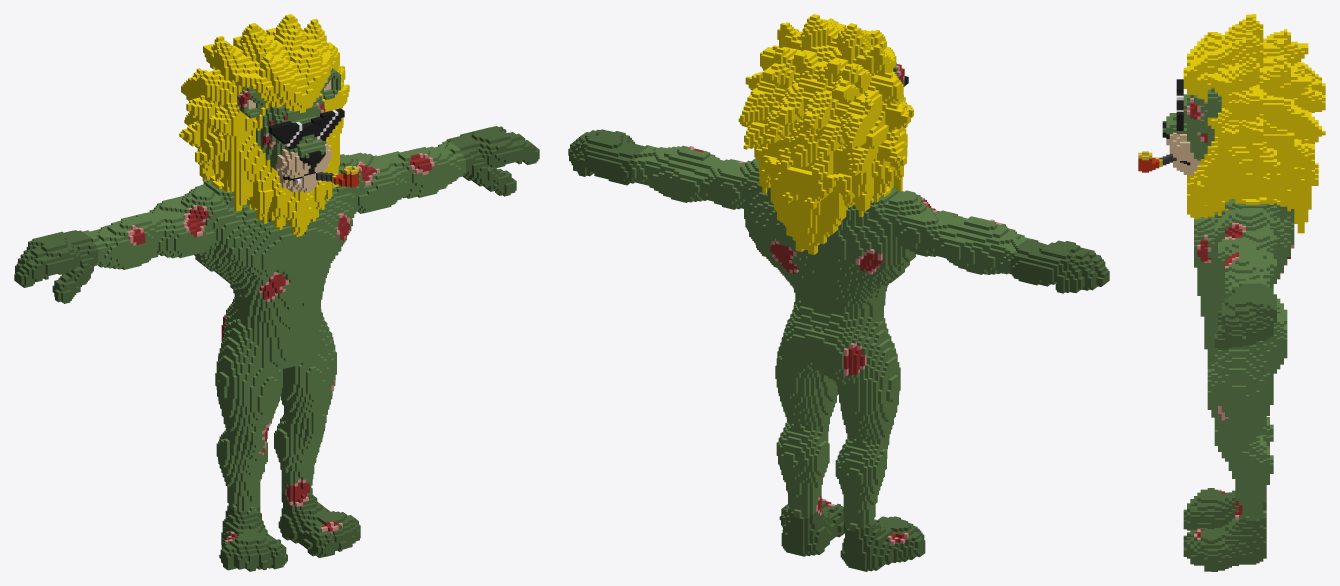
File: 1077-DtvSeKjT.fbx
The picture shows the model from 3 angles, left to right: view 1: azimuth 30°, elevation 25°; view 2: azimuth 150°, elevation 25°; view 3: azimuth 270°, elevation 25°; orthographic projection. The views are drawn at different scales.
Visible parts, largest first — view 1: pipe; view 2: pipe; view 3: pipe.
Boxes of the visible parts, left/top/right/bottom form: pipe: left=14, top=14, right=539, bottom=571; pipe: left=568, top=14, right=1109, bottom=571; pipe: left=1138, top=14, right=1325, bottom=571.
Size of the model in its own units: 17.2 by 16.5 by 5.4.
4 materials, 4 textured.
